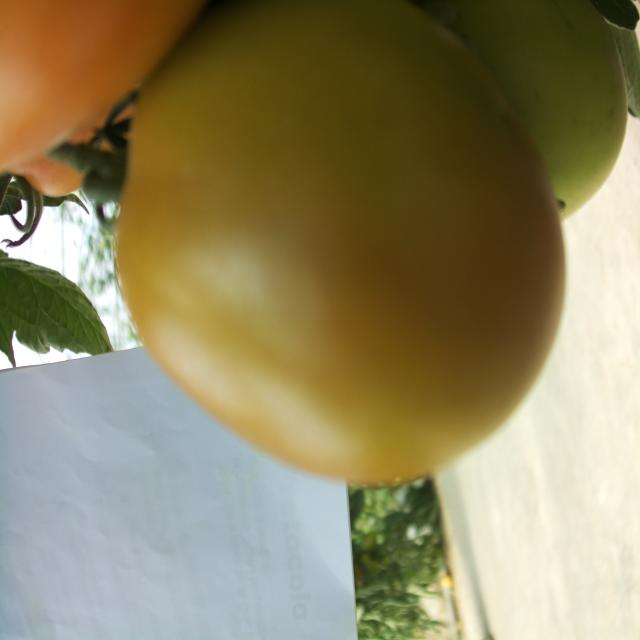yesil: (134, 32, 604, 480)
